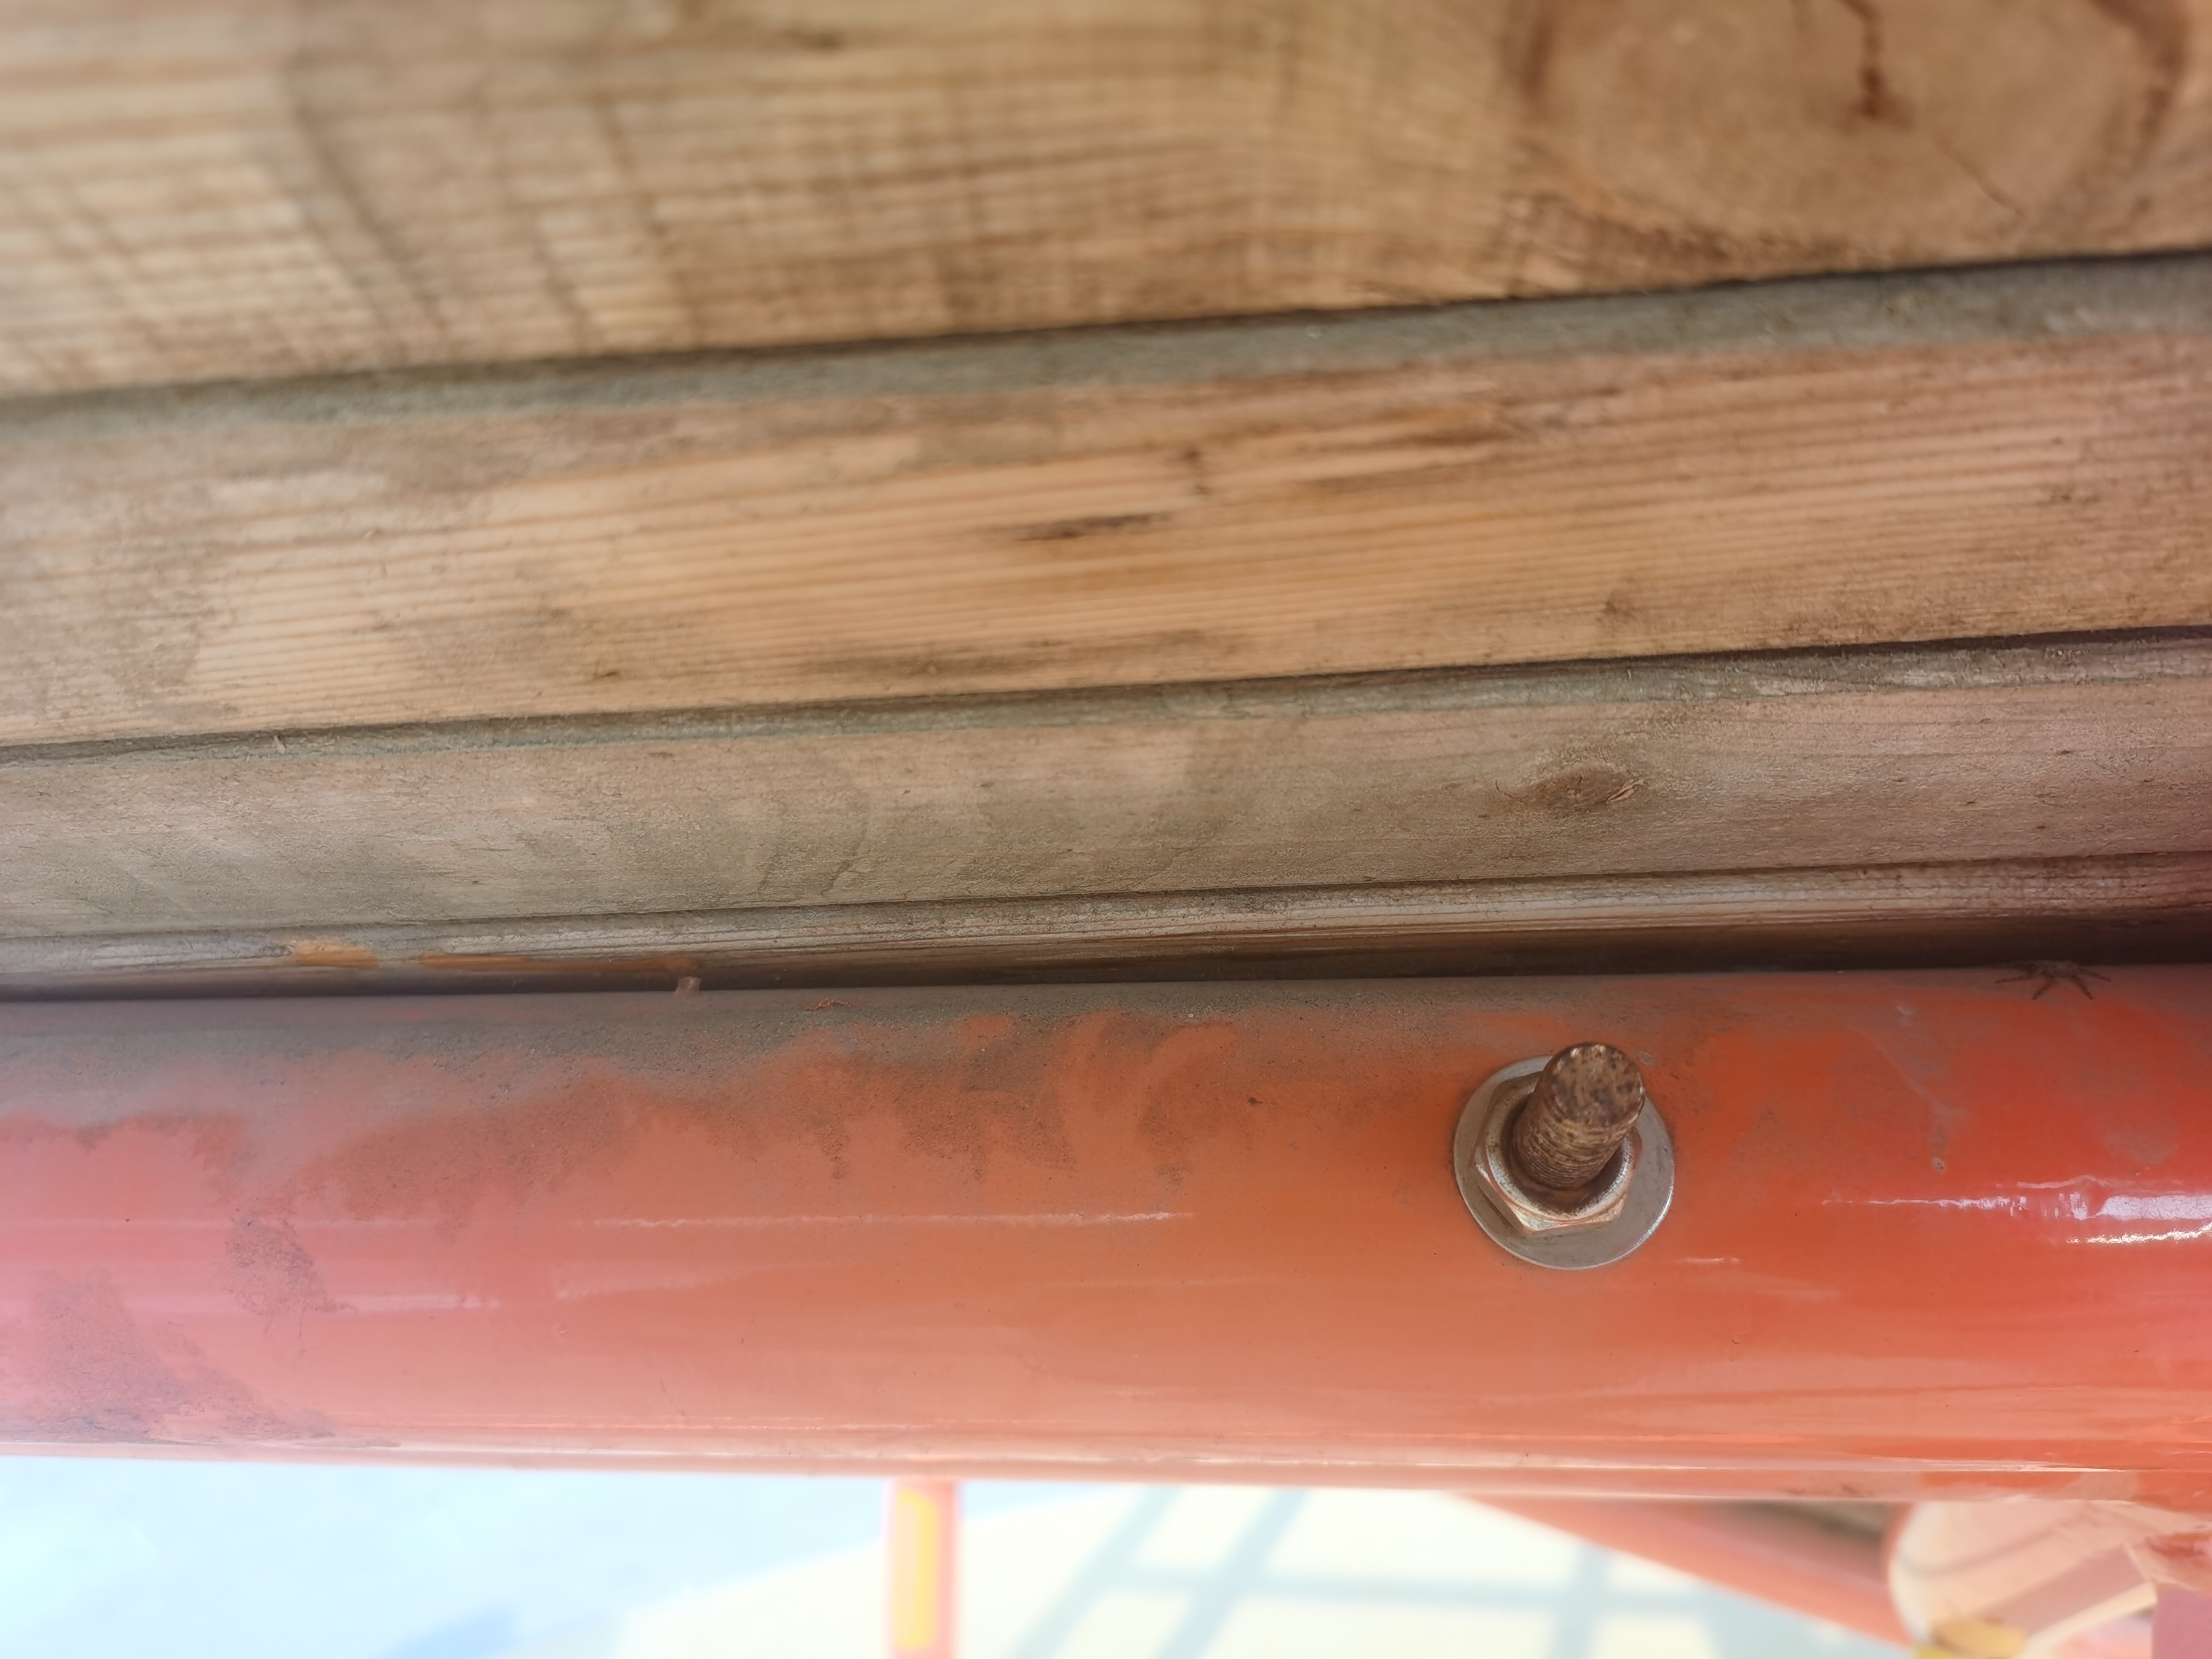bolt_b: (1460, 1061, 1651, 1253)
